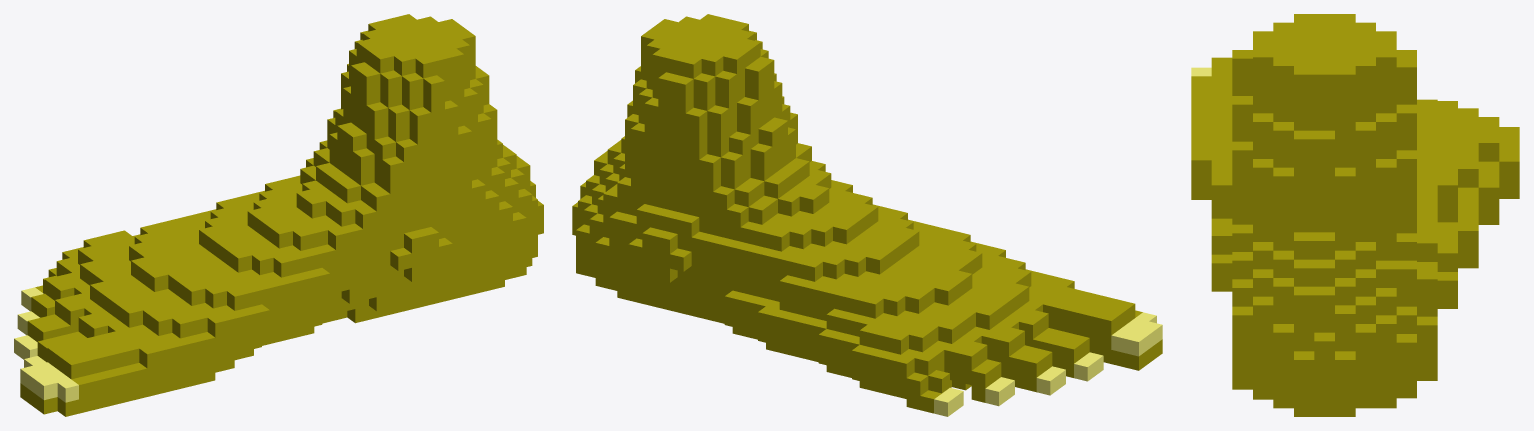
File: Minion.fbx
The picture shows the model from 3 angles, left to right: view 1: azimuth 30°, elevation 25°; view 2: azimuth 150°, elevation 25°; view 3: azimuth 270°, elevation 25°; orthographic projection. The views are drawn at different scales.
Parts seen in each view (by area): view 1: Untitled; view 2: Untitled; view 3: Untitled.
Boxes of the visible parts, x1,y1,x2,y2 form: Untitled: (14,14,543,416); Untitled: (572,14,1162,416); Untitled: (1191,14,1519,416).
Size of the model in its own units: 390 by 170 by 160.
